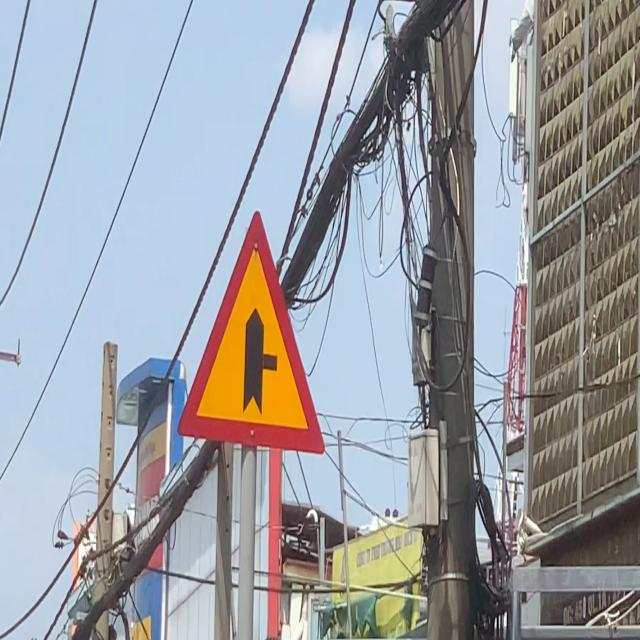Giao voi duong khong uu tien: (176, 204, 326, 457)
